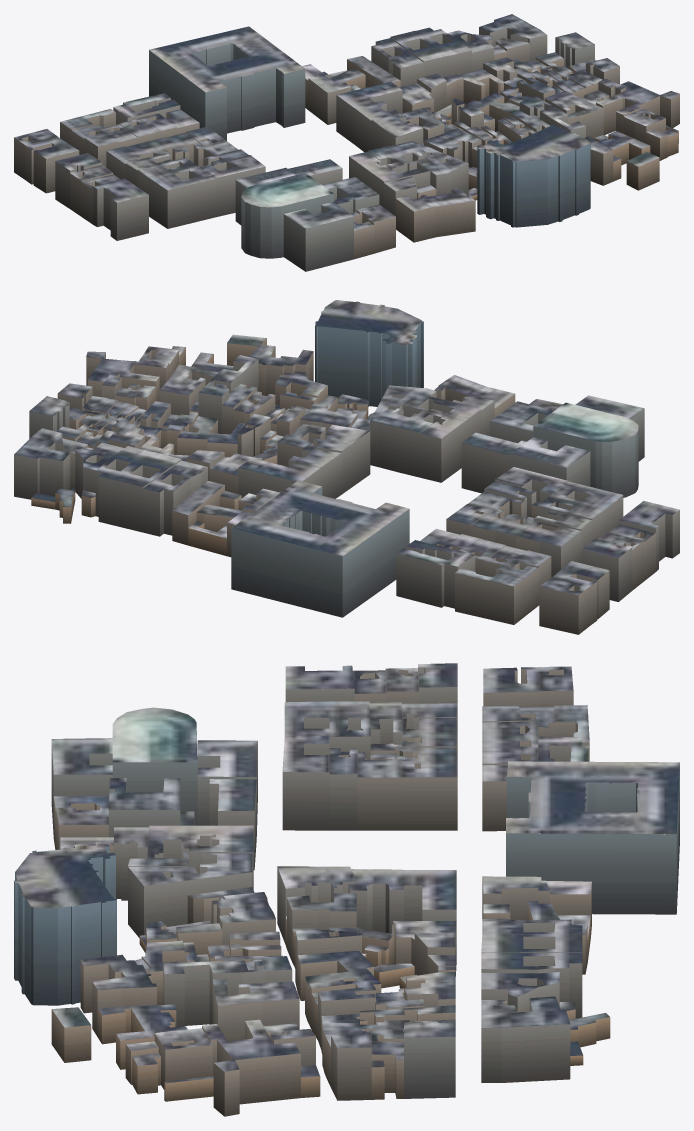
The picture shows the model from 3 angles, top to bottom: view 1: azimuth 30°, elevation 25°; view 2: azimuth 150°, elevation 25°; view 3: azimuth 270°, elevation 25°; orthographic projection. The views are drawn at different scales.
Bounding box in the file's own units: 350 × 39.96 × 247.
2 materials, 2 textured.
